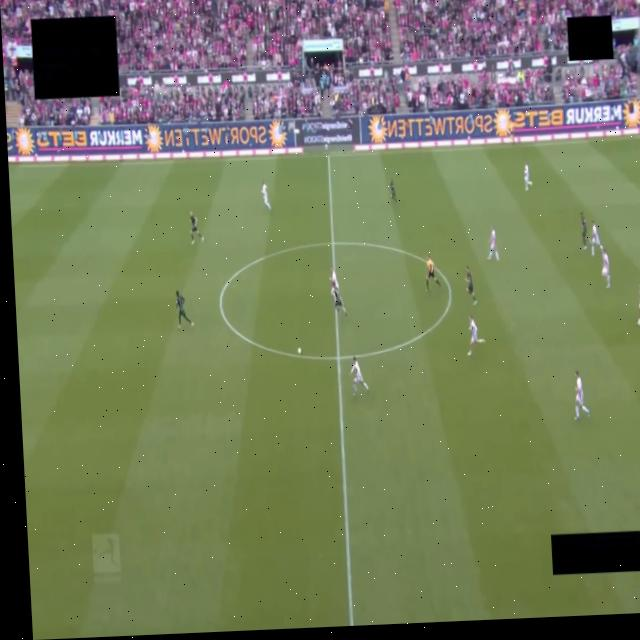ball: (297, 348, 300, 355)
player: (575, 371, 589, 420), (350, 357, 368, 394), (467, 316, 484, 355), (175, 291, 192, 328), (331, 282, 346, 315), (189, 212, 203, 244), (465, 267, 476, 305), (487, 227, 499, 261), (600, 247, 609, 288), (590, 221, 600, 255), (580, 212, 588, 250), (261, 182, 270, 210), (524, 164, 531, 190), (389, 179, 396, 203), (637, 293, 639, 325)
referee: (425, 255, 440, 292)
